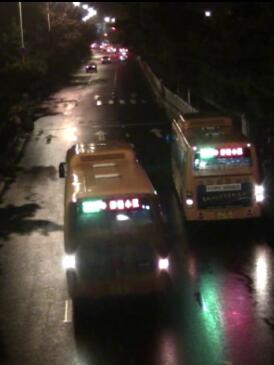bus: (59, 141, 171, 308), (170, 112, 264, 223)
car: (99, 52, 112, 63), (83, 61, 96, 70)
